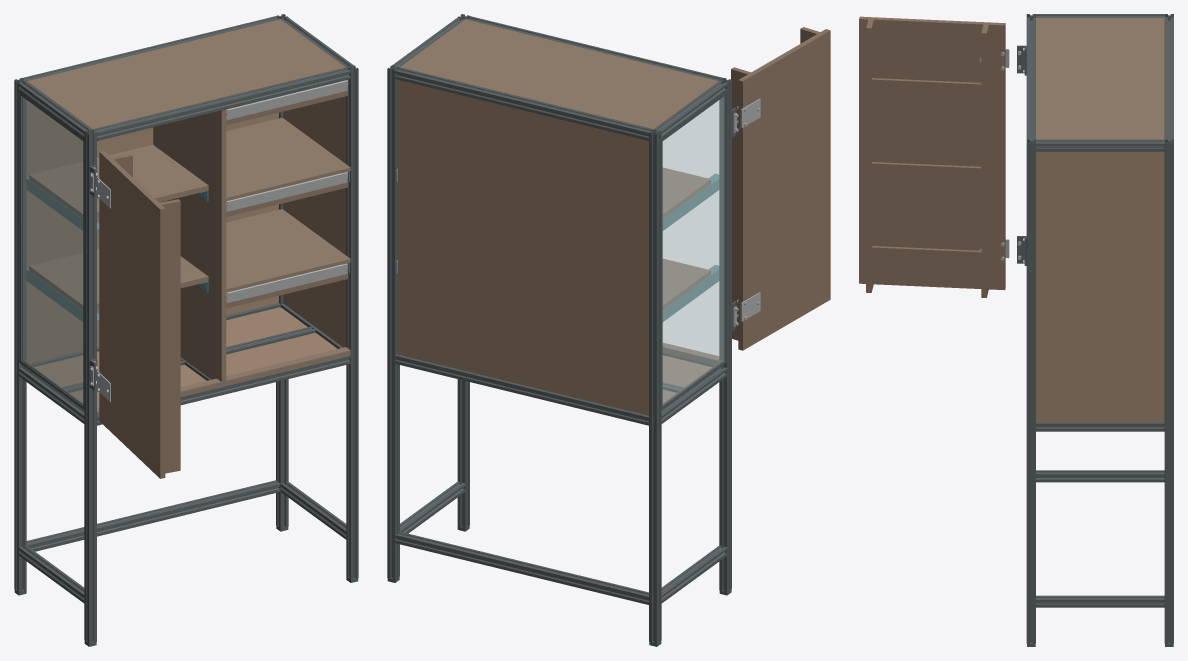
The model's file is cabinet-open.glb.
3 views of the same model, side by side, from view 1: azimuth 30°, elevation 25°; view 2: azimuth 150°, elevation 25°; view 3: azimuth 270°, elevation 25° (orthographic).
Visible parts, largest first — view 1: Door-face-18, Left-glass-6, Top-18, Center-18, Back-infill-8, Right-infill-8, Shelf-Right-2, Shelf-Right-1, Post-966-23, Post-4-23, Post-4-470, Shelf-Left-2 (+30 smaller); view 2: Back-infill-8, Door-face-18, Left-glass-6, Top-18, Post-4-470, Post-966-470, Post-4-23, Beam-top-rear, Beam-lower-rear, Beam-body-rear, Post-966-23, Door-inner-hinge-18 (+12 smaller); view 3: Right-infill-8, Door-face-18, Top-18, Post-966-23, Post-966-470, Door-inner-hinge-18, Door-inner-meeting-18, Beam-lower-side-4, Beam-lower-side-966, Beam-top-side-966, Door-lip-2-12, Door-lip-3-12 (+5 smaller).
Part boxes in pixels (left/top/right/bottom): Door-face-18: left=99, top=151, right=165, bottom=478; Left-glass-6: left=21, top=96, right=83, bottom=405; Top-18: left=27, top=19, right=345, bottom=129; Center-18: left=153, top=109, right=226, bottom=386; Back-infill-8: left=26, top=100, right=278, bottom=363; Right-infill-8: left=283, top=96, right=346, bottom=347; Shelf-Right-2: left=226, top=117, right=350, bottom=201; Shelf-Right-1: left=226, top=209, right=350, bottom=292; Post-966-23: left=346, top=65, right=358, bottom=579; Post-4-23: left=84, top=129, right=96, bottom=643; Post-4-470: left=14, top=78, right=26, bottom=592; Shelf-Left-2: left=29, top=144, right=208, bottom=218; Back-infill-8: left=397, top=79, right=648, bottom=415; Door-face-18: left=738, top=29, right=830, bottom=350; Left-glass-6: left=662, top=96, right=724, bottom=405; Top-18: left=400, top=19, right=718, bottom=129; Post-4-470: left=649, top=129, right=661, bottom=643; Post-966-470: left=387, top=65, right=399, bottom=579; Post-4-23: left=719, top=78, right=731, bottom=592; Beam-top-rear: left=395, top=67, right=652, bottom=140; Beam-lower-rear: left=395, top=531, right=648, bottom=604; Beam-body-rear: left=395, top=354, right=648, bottom=425; Post-966-23: left=457, top=14, right=469, bottom=528; Door-inner-hinge-18: left=731, top=67, right=750, bottom=340; Right-infill-8: left=1036, top=151, right=1164, bottom=421; Door-face-18: left=859, top=16, right=1005, bottom=290; Top-18: left=1036, top=18, right=1164, bottom=139; Post-966-23: left=1026, top=139, right=1035, bottom=643; Post-966-470: left=1164, top=139, right=1173, bottom=643; Door-inner-hinge-18: left=981, top=24, right=988, bottom=297; Door-inner-meeting-18: left=866, top=19, right=873, bottom=292; Beam-lower-side-4: left=1036, top=470, right=1164, bottom=482; Beam-lower-side-966: left=1036, top=595, right=1164, bottom=607; Beam-top-side-966: left=1036, top=139, right=1164, bottom=151; Door-lip-2-12: left=871, top=162, right=981, bottom=178; Door-lip-3-12: left=871, top=78, right=981, bottom=94.
Size of the model in its own units: 1.04 by 1.8 by 1.02.
